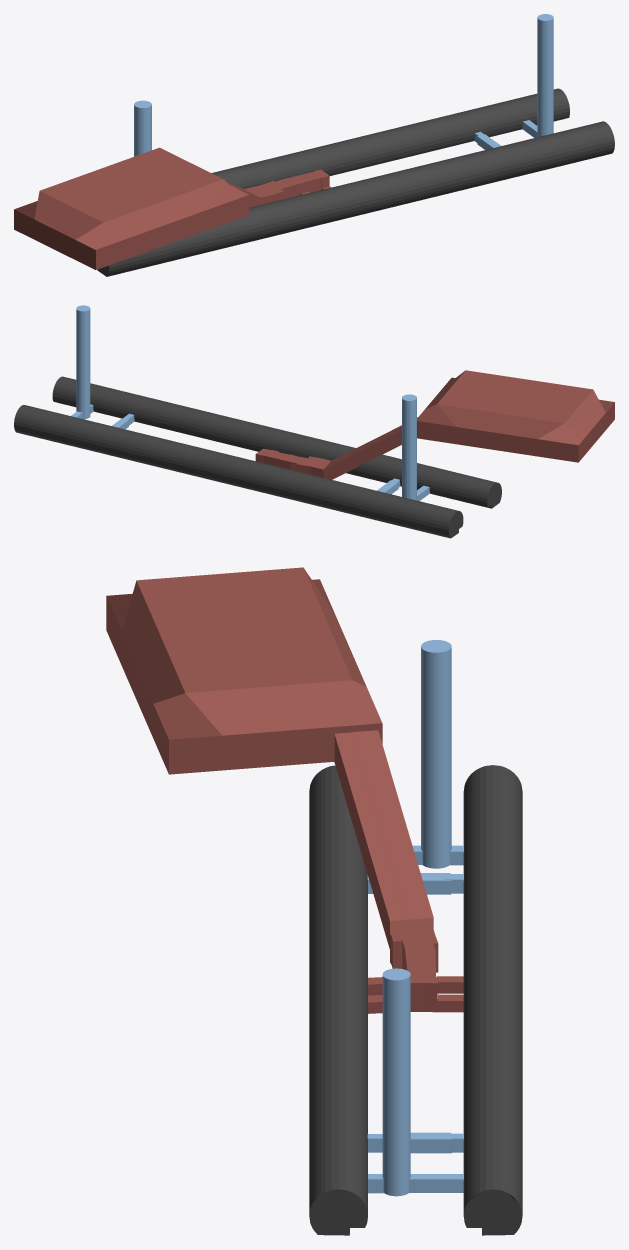
3 views of the same model, one above another, from view 1: azimuth 30°, elevation 25°; view 2: azimuth 150°, elevation 25°; view 3: azimuth 270°, elevation 25° (orthographic). The views are drawn at different scales.
Visible parts, largest first — view 1: TicketHall, PLT1, PLT2, 12, Concourse, 23; view 2: PLT2, TicketHall, PLT1, 12, 23, ESC, Concourse; view 3: TicketHall, PLT2, PLT1, ESC, 12, 23, Concourse, 32, 43.
Boxes of the visible parts, box(x1,y1,x2,y2) form: TicketHall: box(14, 147, 249, 269); PLT1: box(97, 121, 614, 276); PLT2: box(211, 88, 569, 189); 12: box(522, 14, 553, 137); Concourse: box(244, 169, 329, 204); 23: box(134, 100, 151, 156); PLT2: box(14, 405, 463, 538); TicketHall: box(417, 370, 614, 462); PLT1: box(52, 376, 501, 508); 12: box(71, 305, 93, 419); 23: box(402, 394, 429, 500); ESC: box(323, 417, 417, 479); Concourse: box(255, 448, 330, 477); TicketHall: box(106, 567, 382, 774); PLT2: box(463, 765, 522, 1235); PLT1: box(309, 765, 367, 1235); ESC: box(334, 730, 433, 948); 12: box(368, 968, 463, 1196); 23: box(412, 640, 463, 868); Concourse: box(390, 917, 438, 1012); 32: box(367, 1132, 463, 1153); 43: box(367, 873, 463, 894).
Size of the model in its own units: 186 by 38.67 by 65.05.
